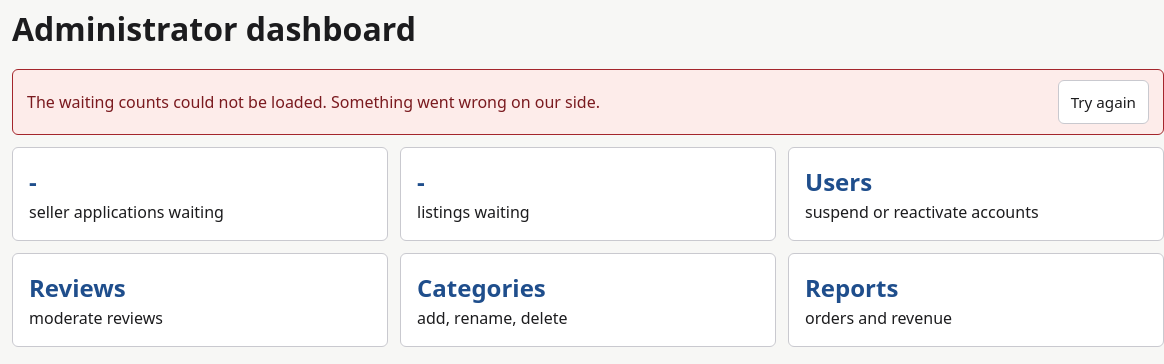
Scenario: error, loading and retry states (S-23, S-24, S-29; TASK-05) › S-24: the dashboard shows an error with Try again and recovers; counts are not faked
Expected: the message shows "could not be loaded", [27,91,600,113]
Expected: the text "0" is not shown
Click the button "Try again".
click(1103, 102)  # box [1058,80,1149,124]
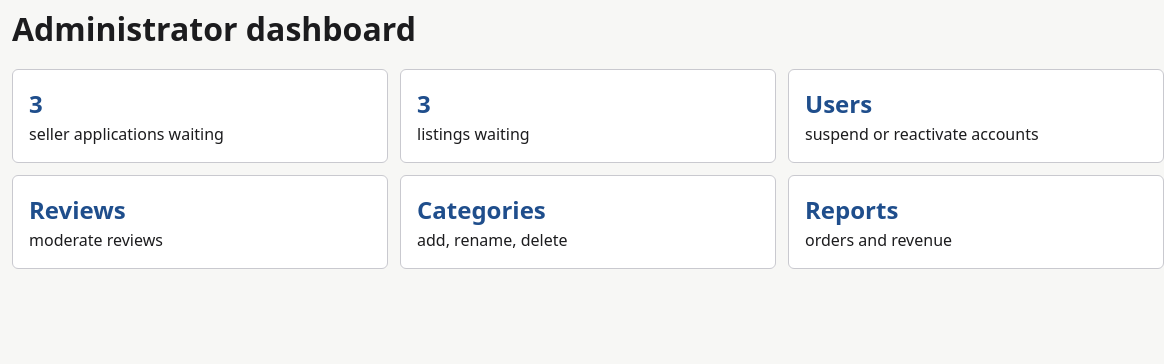
Expected: the text "3" is shown 2 times, [29,87,43,120]; [417,87,431,120]
Expected: the message is gone
